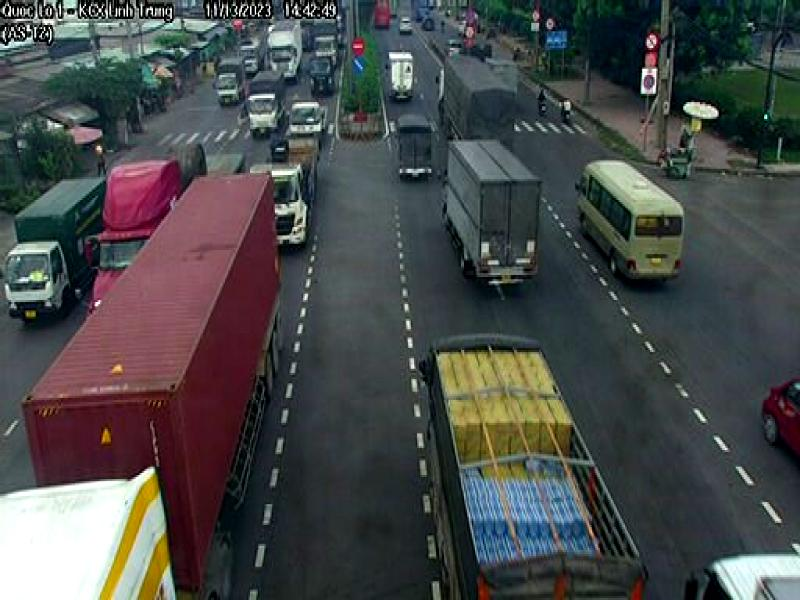bus: (575, 159, 690, 294), (4, 172, 101, 318)
truck: (247, 127, 323, 247)
